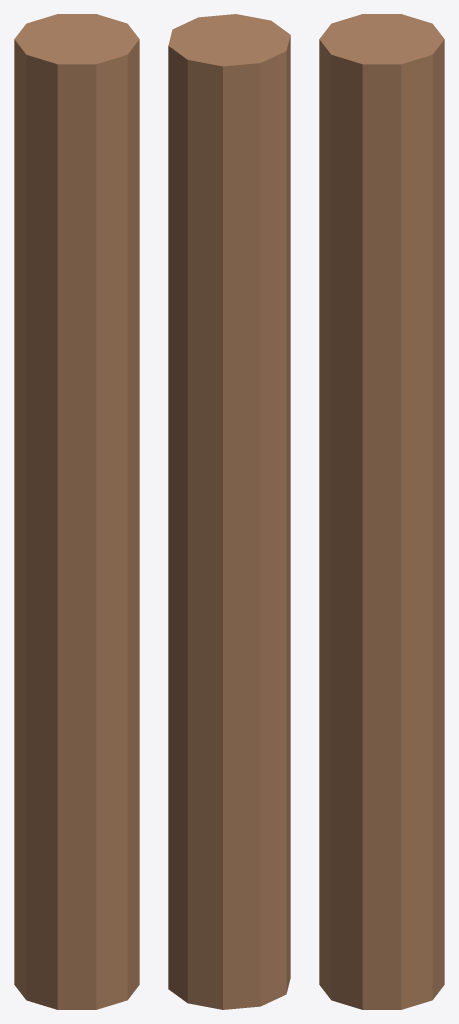
Rendered from wpn_pipe.glb.
3 views of the same model, side by side, from view 1: azimuth 90°, elevation 25°; view 2: azimuth 210°, elevation 25°; view 3: azimuth 270°, elevation 25° (orthographic).
Parts seen in each view (by area): view 1: bat_pipe; view 2: bat_pipe; view 3: bat_pipe.
Boxes of the visible parts, x1,y1,x2,y2 form: bat_pipe: [14, 14, 139, 1009]; bat_pipe: [168, 14, 290, 1009]; bat_pipe: [319, 14, 444, 1009].
Bounding box in the file's own units: 0.1141 × 1 × 0.12.
